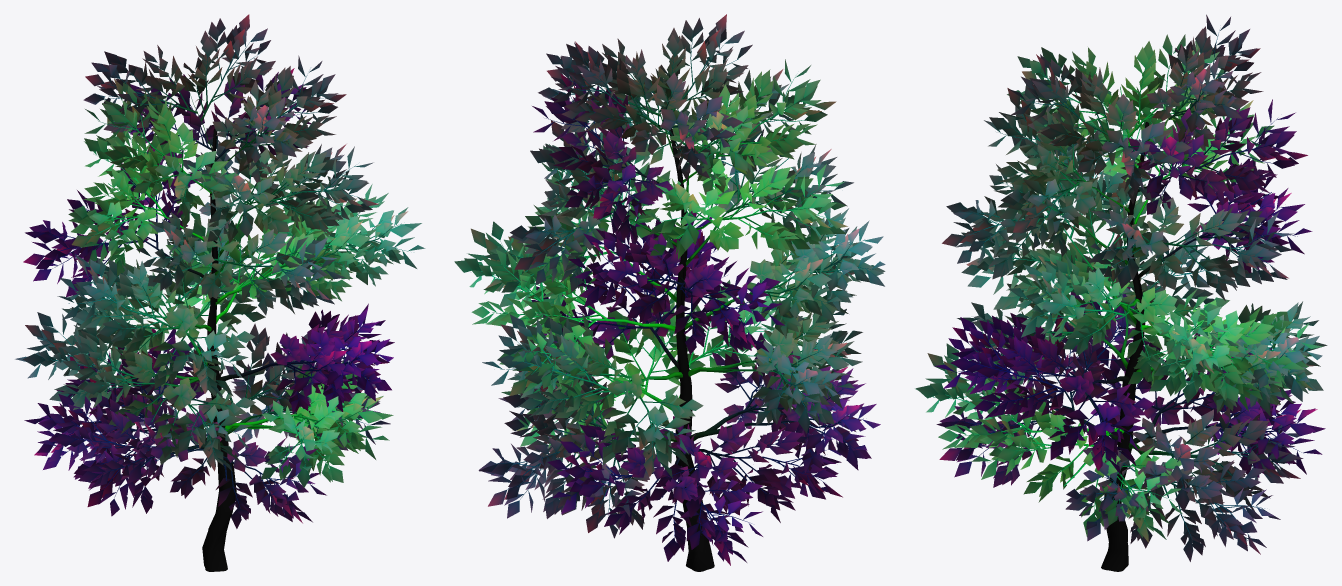
Rendered from EO_ChirPine.fbx.
3 views of the same model, side by side, from view 1: azimuth 30°, elevation 25°; view 2: azimuth 150°, elevation 25°; view 3: azimuth 270°, elevation 25° (orthographic). The views are drawn at different scales.
Visible parts, largest first — view 1: Tree_1, Tree_0; view 2: Tree_1, Tree_0; view 3: Tree_1, Tree_0.
Boxes of the visible parts, <box> form: Tree_1: <box>15,14,425,528</box>; Tree_0: <box>42,42,408,571</box>; Tree_1: <box>454,14,885,565</box>; Tree_0: <box>481,40,875,571</box>; Tree_1: <box>915,14,1327,561</box>; Tree_0: <box>930,30,1306,571</box>.
Size of the model in its own units: 70.51 by 94.58 by 66.05.
